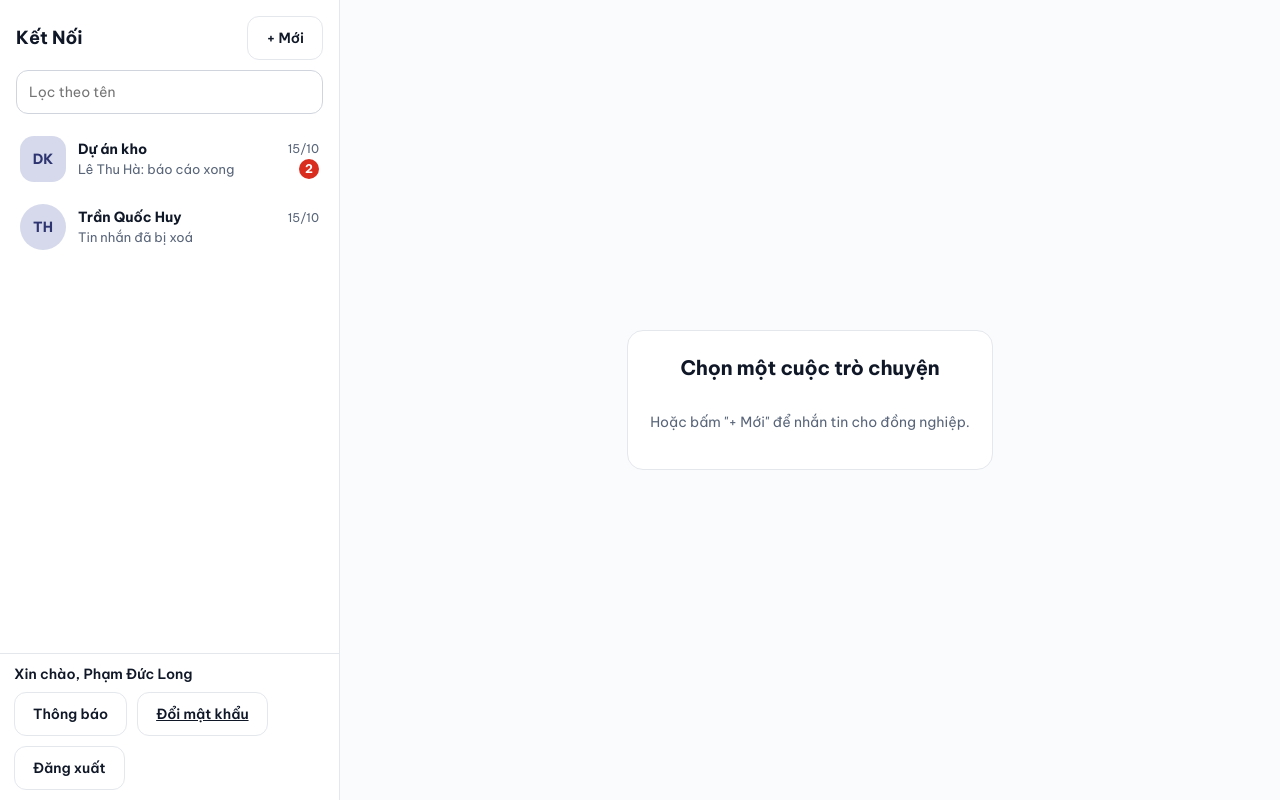
Test: chat layout › starts a direct chat from the directory
The image size is (1280, 800).
Click the button with aria-label "Cuộc trò chuyện mới" at x=285, y=38, box [247,16,323,60]
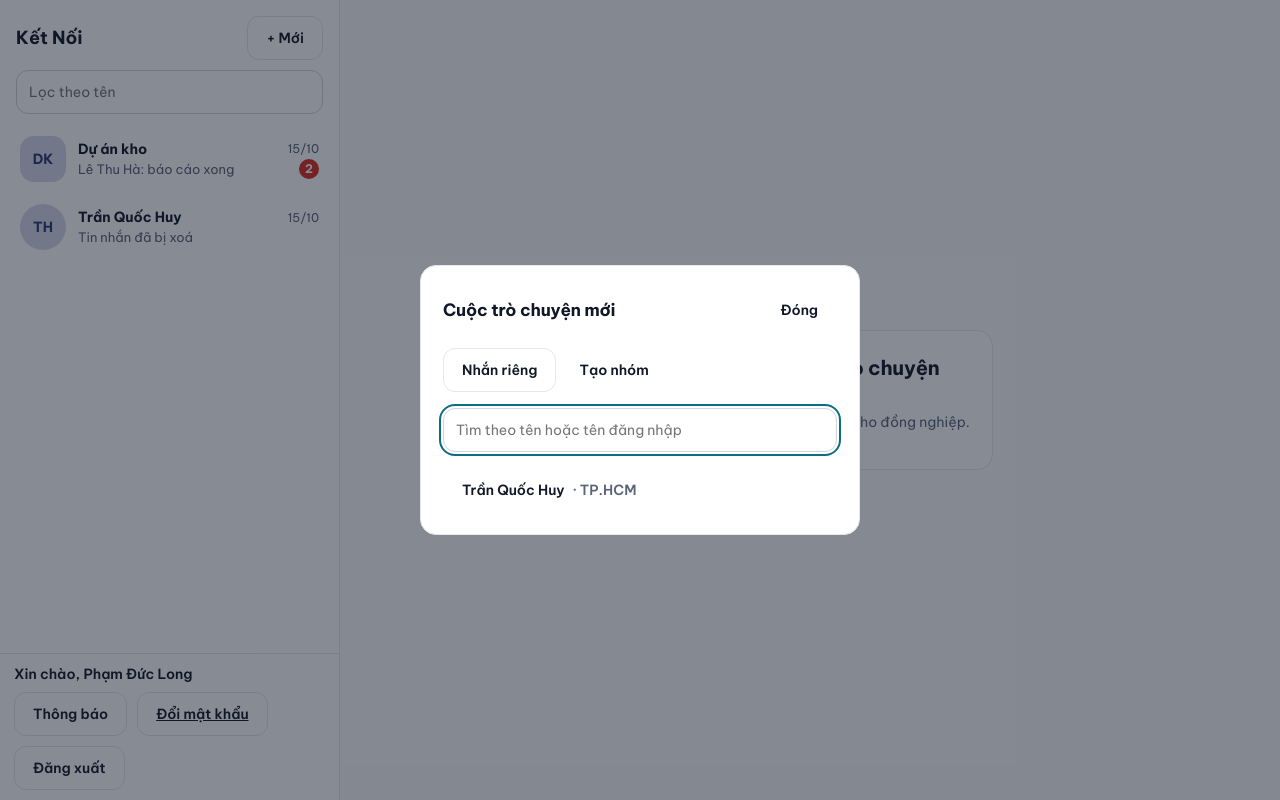
Click the button "Trần Quốc Huy · TP.HCM" at x=513, y=490, box [443,468,837,512]
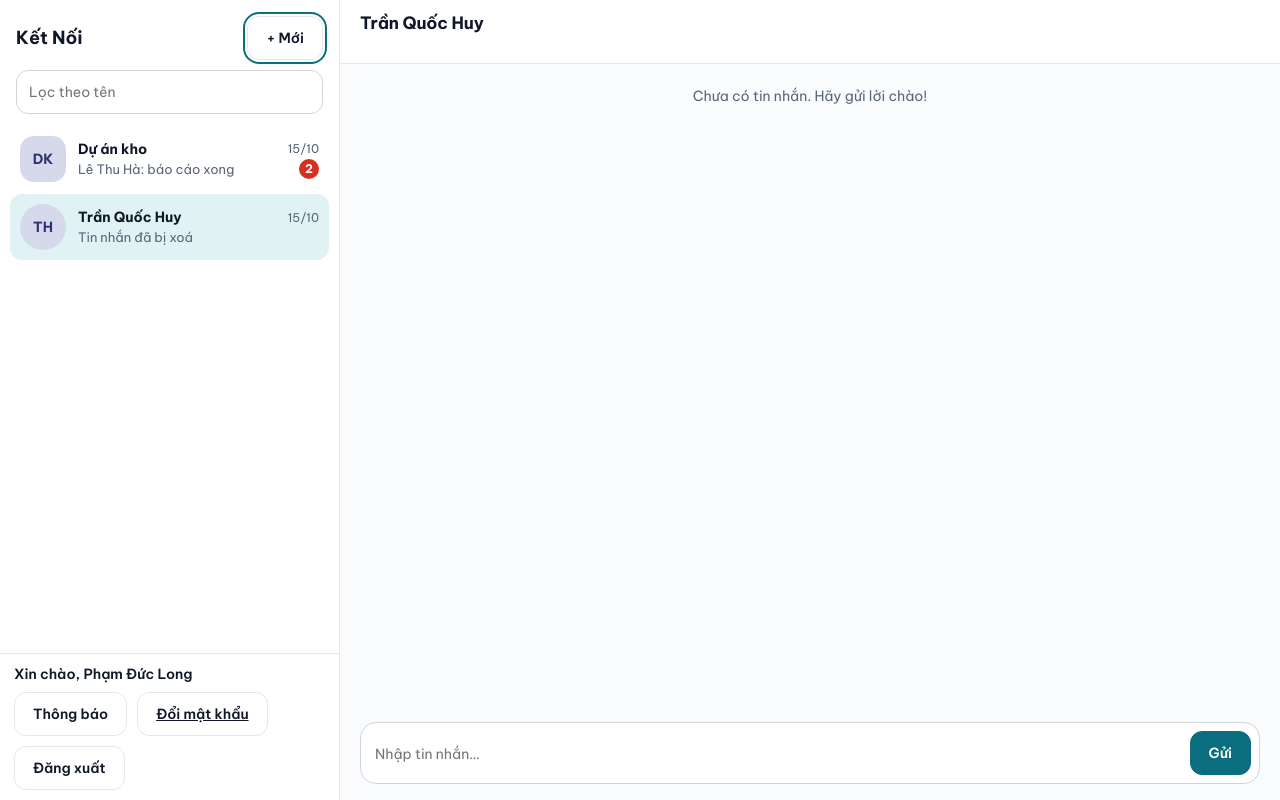
Result: the text "Chưa có tin nhắn. Hãy gửi lời chào!" is shown at [693,87,927,105]
Result: the dialog is gone
